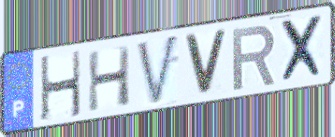H: (38, 48, 84, 124), (86, 44, 133, 115)
R: (230, 23, 278, 93)
V: (135, 31, 181, 108), (182, 28, 230, 98)
X: (277, 13, 327, 86)
